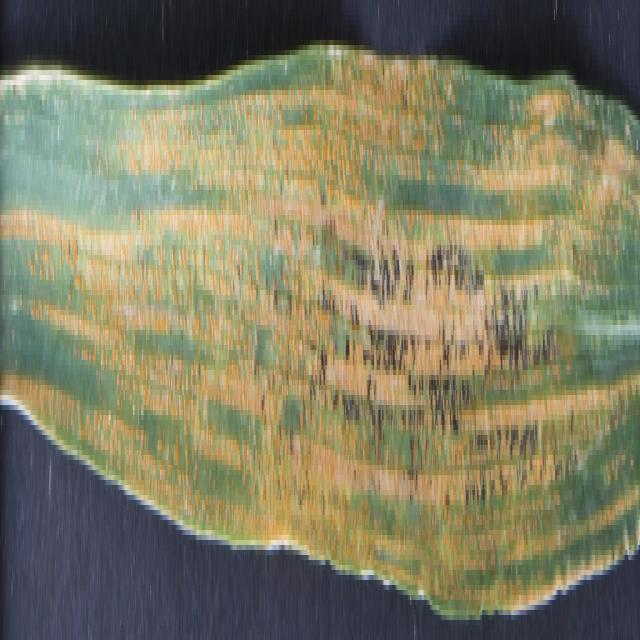leaf rust: (3, 75, 640, 580)
